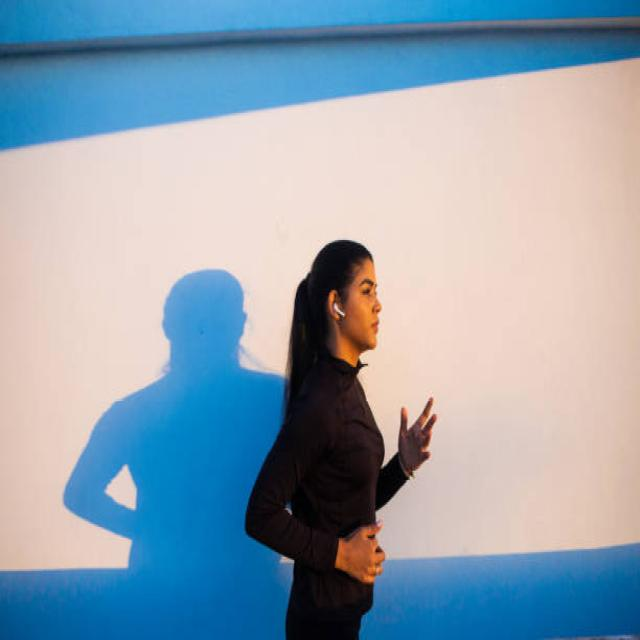airpods: (333, 302, 345, 318)
